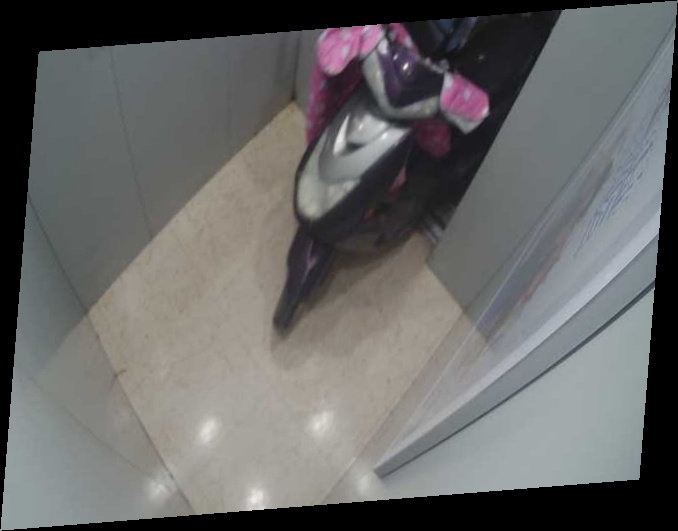electromobile: (252, 43, 507, 339)
